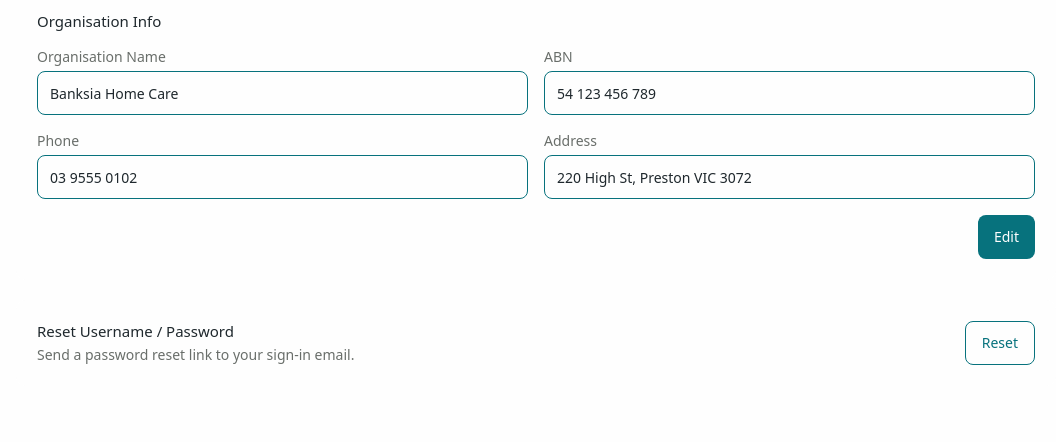
Test: Admin Settings › [ADM-UI-05][AC-01] reset does not change the organisation details
Click the button "Reset": (1000, 343) 965,321 -> 1035,365
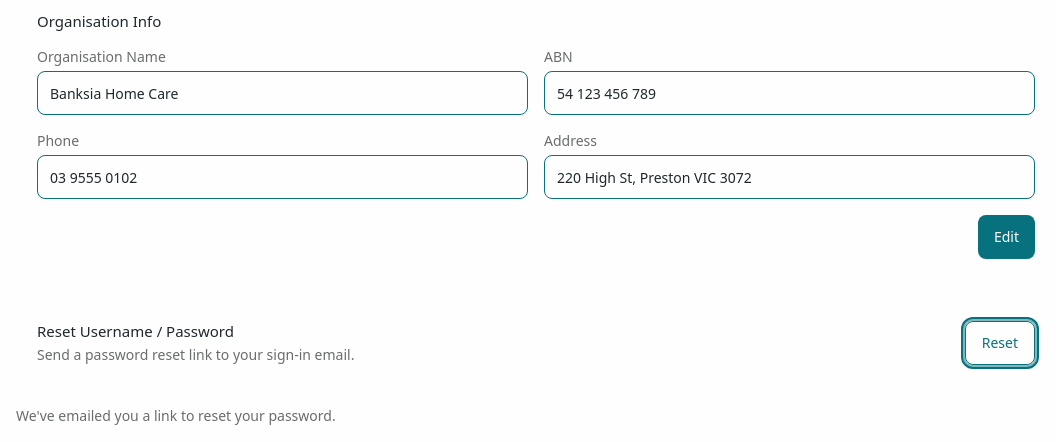
Check: the field labelled "Organisation Name" holds "Banksia Home Care", box 37,71 -> 528,115
Check: the text "We've emailed you a link to reset your password." is shown, box 16,406 -> 336,425
